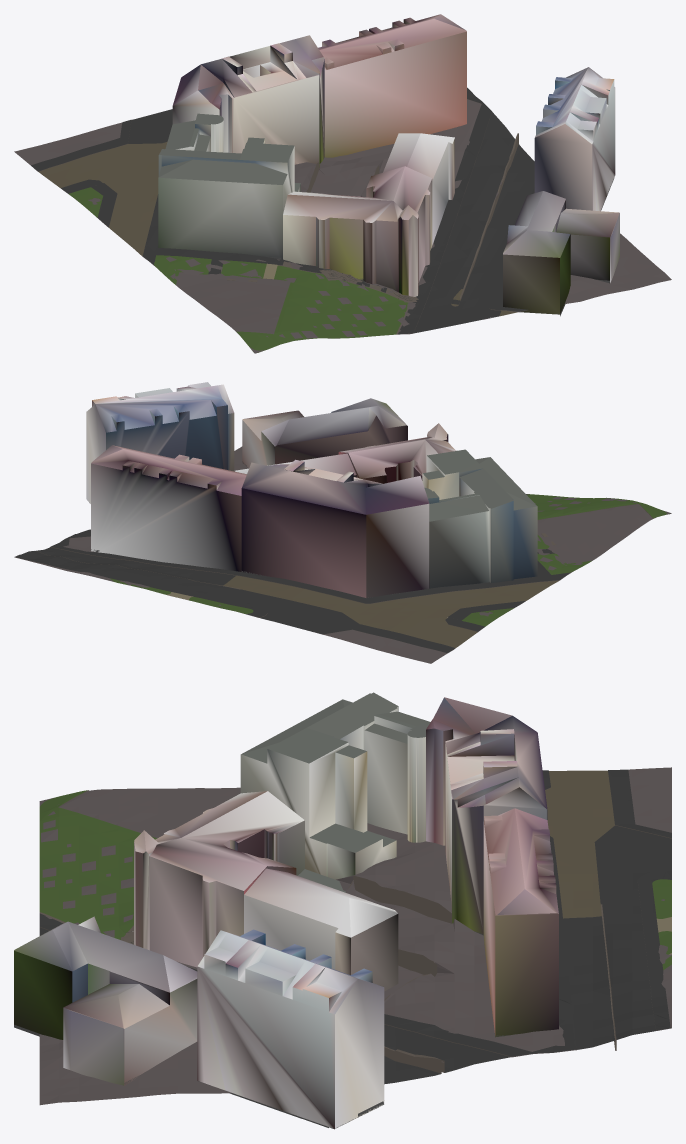
3 views of the same model, one above another, from view 1: azimuth 30°, elevation 25°; view 2: azimuth 150°, elevation 25°; view 3: azimuth 270°, elevation 25° (orthographic). The views are drawn at different scales.
Visible parts, largest first — view 1: c_p01_m13; view 2: c_p01_m13; view 3: c_p01_m13.
Boxes of the visible parts, x1=… form: c_p01_m13: x1=14, y1=14, x2=671, y2=353; c_p01_m13: x1=14, y1=382, x2=671, y2=663; c_p01_m13: x1=14, y1=692, x2=671, y2=1129.
Size of the model in its own units: 145 by 45.53 by 133.
